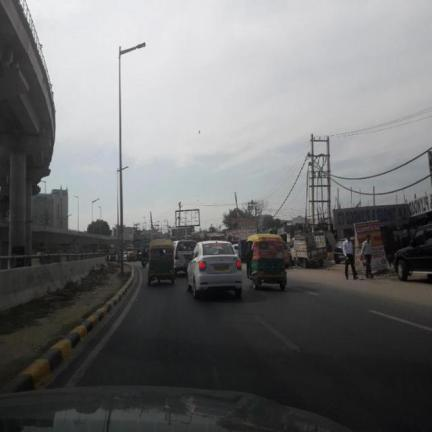Road: (51, 264, 431, 431)
